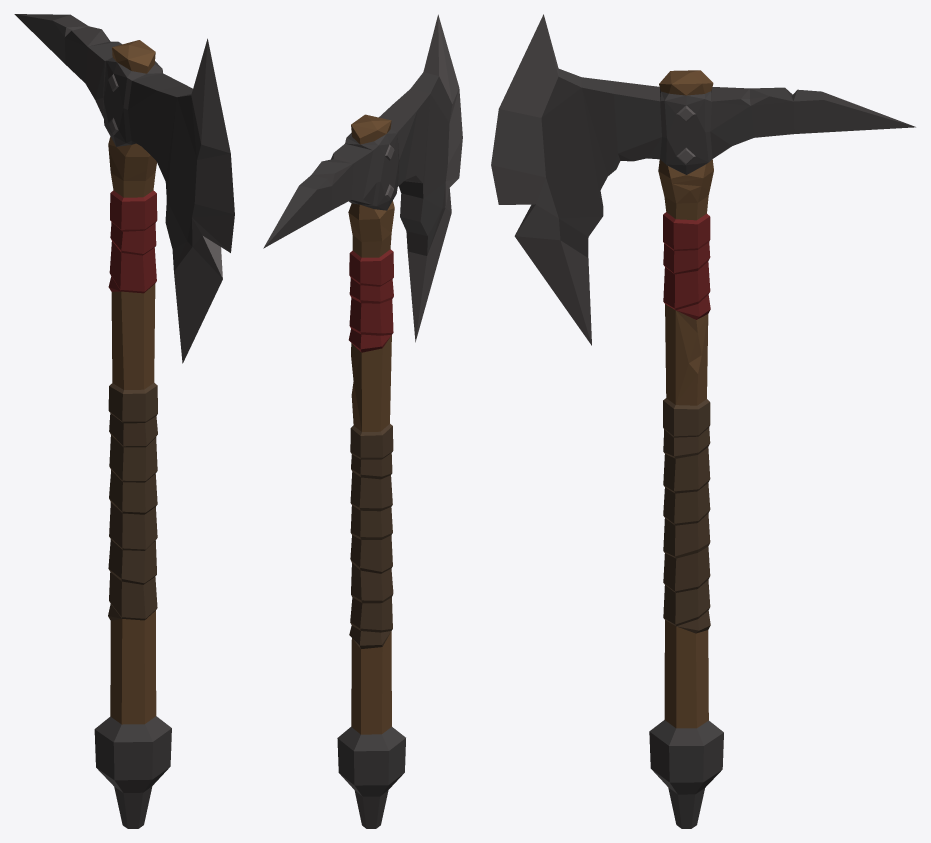
File: SM_Axe_Centaur.fbx
3 renders of one model, left to right at view 1: azimuth 30°, elevation 25°; view 2: azimuth 150°, elevation 25°; view 3: azimuth 270°, elevation 25°, orthographic. The views are drawn at different scales.
Parts seen in each view (by area): view 1: SM_Axe_Centaur; view 2: SM_Axe_Centaur; view 3: SM_Axe_Centaur.
Part boxes in pixels (x1=…): SM_Axe_Centaur: x1=14, y1=14, x2=234, y2=828; SM_Axe_Centaur: x1=263, y1=14, x2=462, y2=828; SM_Axe_Centaur: x1=491, y1=14, x2=915, y2=828.
Bounding box in the file's own units: 0.0962 × 1.32 × 0.6266.
